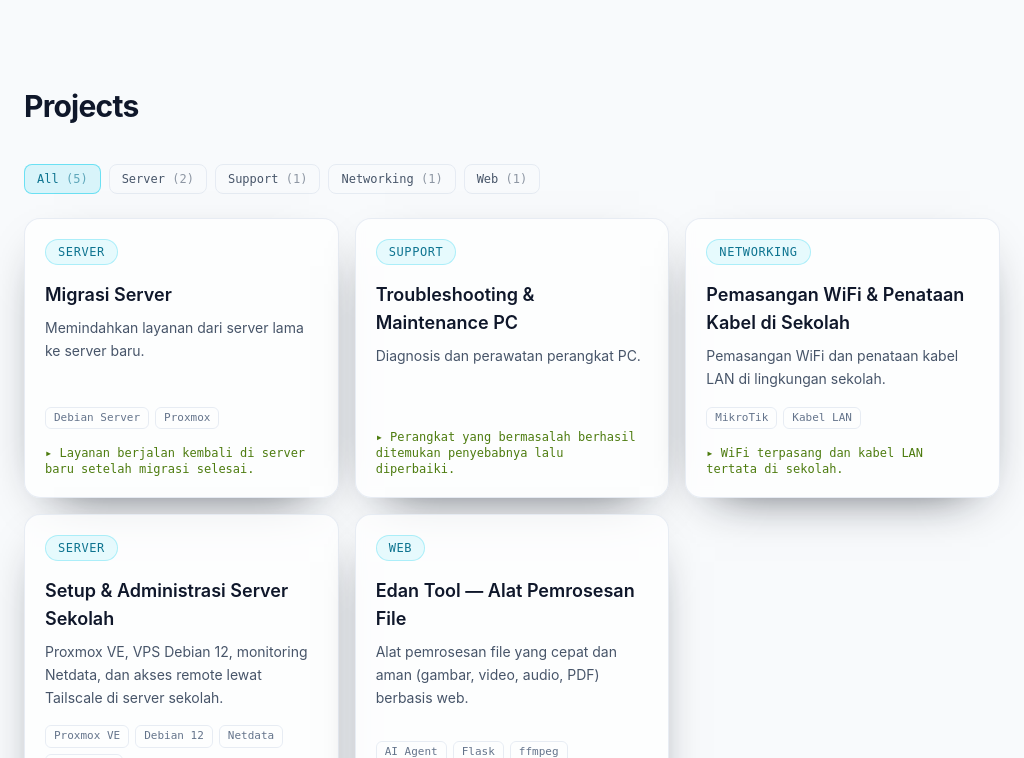
Scenario: Projects › closes on Escape, locks scroll while open and restores focus
This screenshot has width=1024, height=758.
Step 1. Click the button "Troubleshooting & Maintenance PC" → x=512, y=358, box [355,218,669,498]
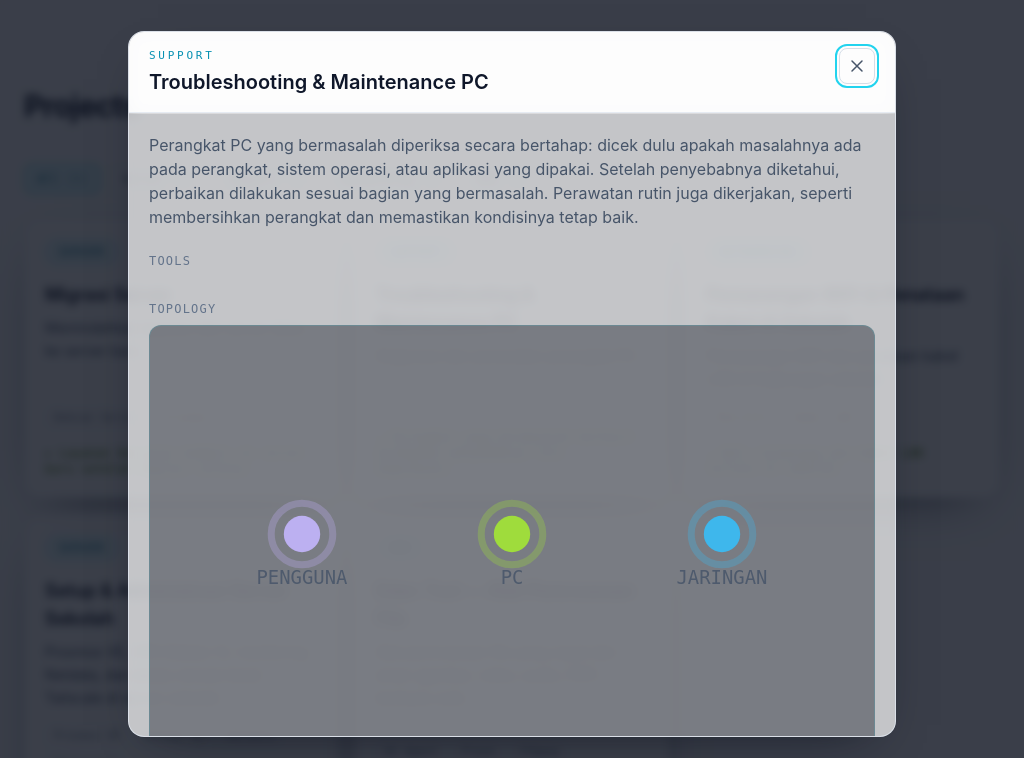
Expected: the dialog is shown
Step 2. Press Escape
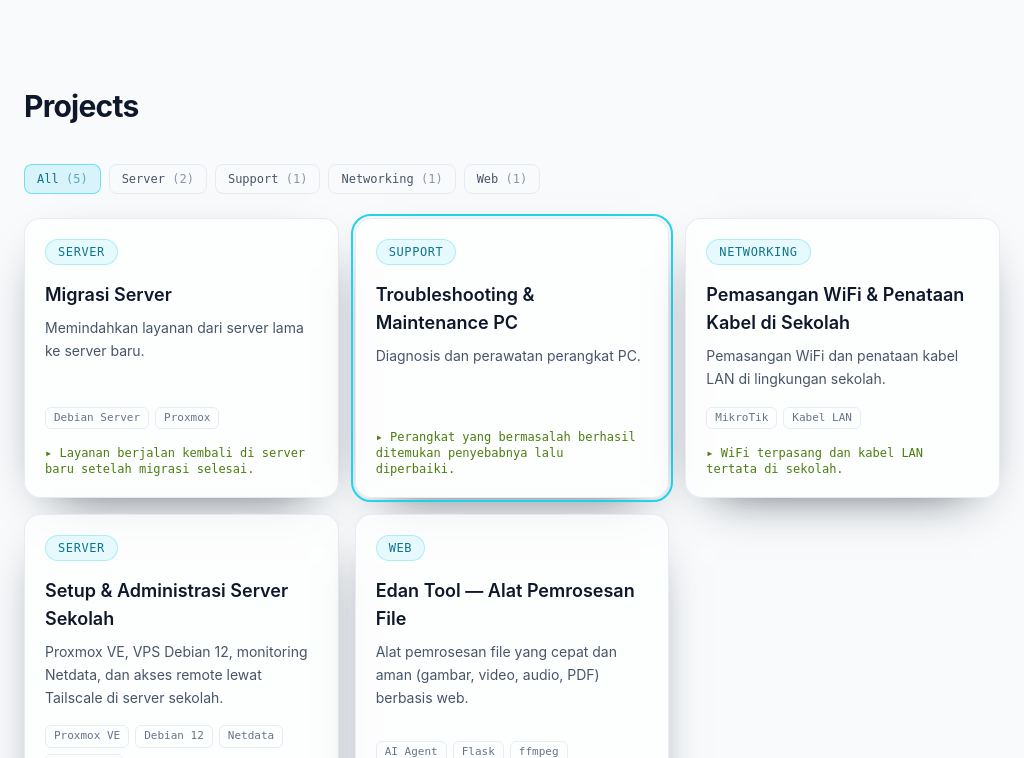
Expected: the dialog is gone
